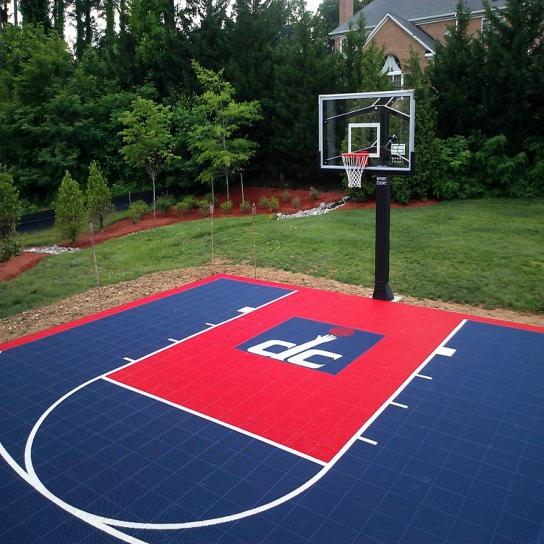basketball-hoop: (340, 150, 368, 190)
